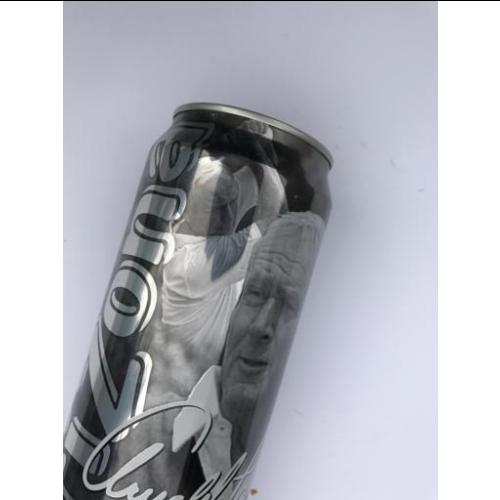metal: (64, 101, 335, 497)
